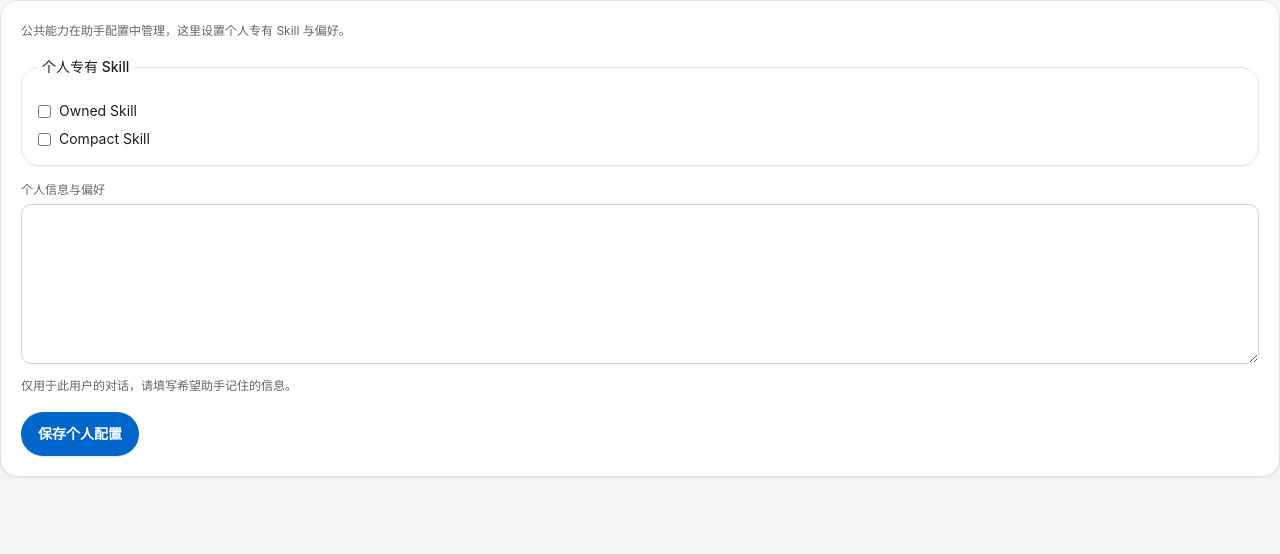
requests ownerId and only offers this user's Skills when ownership is returned
Click the checkbox labelled "Owned Skill".
click(44, 111)  # box top-left (38, 104), bottom-right (51, 118)
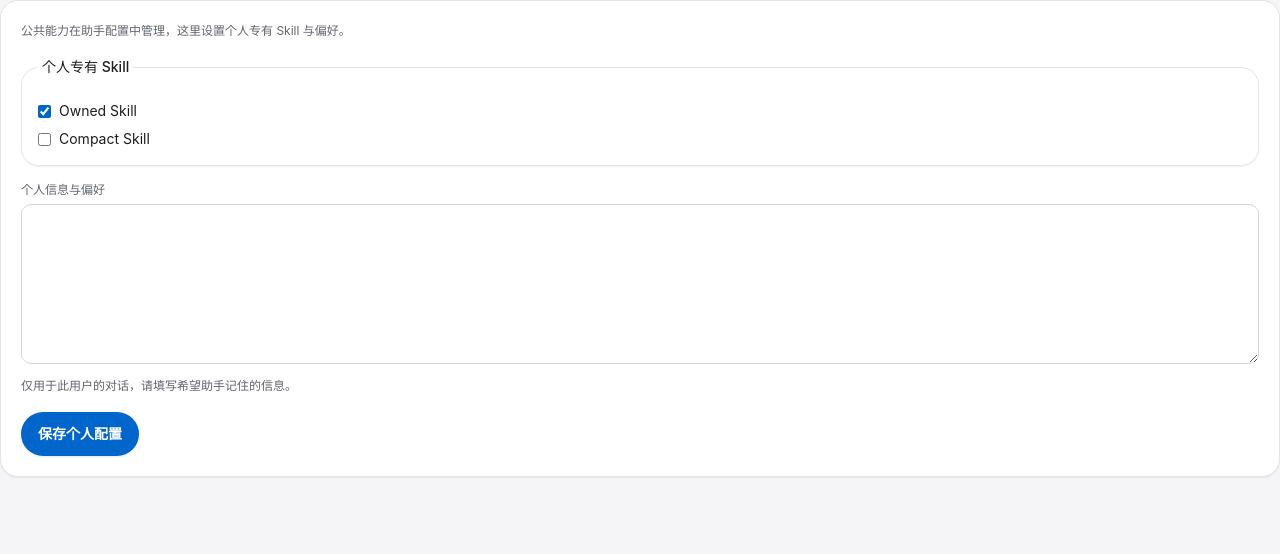
Expected: the checkbox labelled "Compact Skill" is shown, top-left (38, 132), bottom-right (51, 146)
Click the button "保存个人配置".
click(80, 434)  # box top-left (21, 412), bottom-right (139, 456)
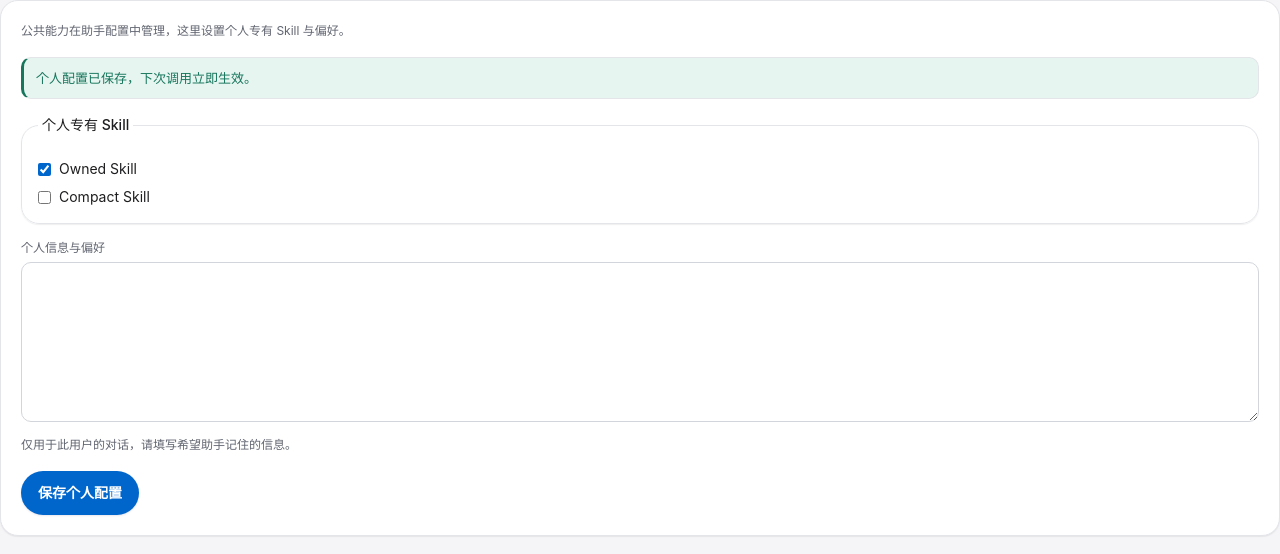
Result: the text "个人配置已保存，下次调用立即生效。" is shown at top-left (21, 57), bottom-right (1259, 99)
